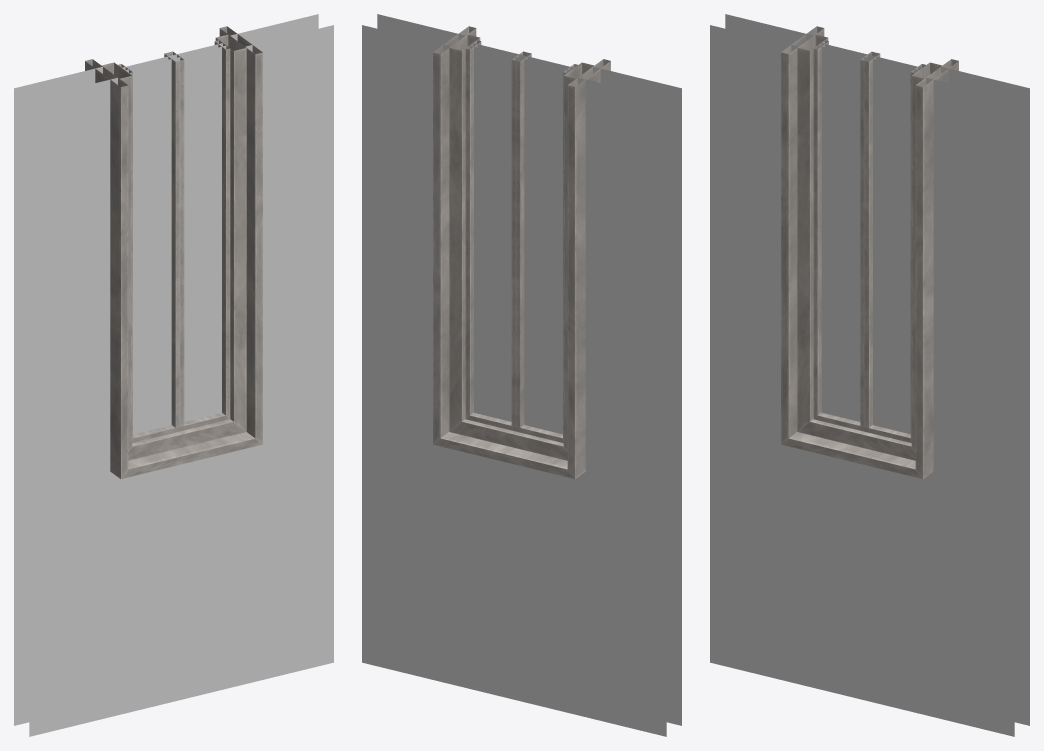
The model's file is Wall_Window_B_F.fbx.
The picture shows the model from 3 angles, left to right: view 1: azimuth 30°, elevation 25°; view 2: azimuth 150°, elevation 25°; view 3: azimuth 330°, elevation 25°; orthographic projection.
Visible parts, largest first — view 1: Wall_Window_B_F; view 2: Wall_Window_B_F; view 3: Wall_Window_B_F.
Boxes of the visible parts, x1,y1,x2,y2 form: Wall_Window_B_F: (14,14,333,736); Wall_Window_B_F: (362,14,681,736); Wall_Window_B_F: (710,14,1029,736).
Size of the model in its own units: 3 by 0.6115 by 6.
